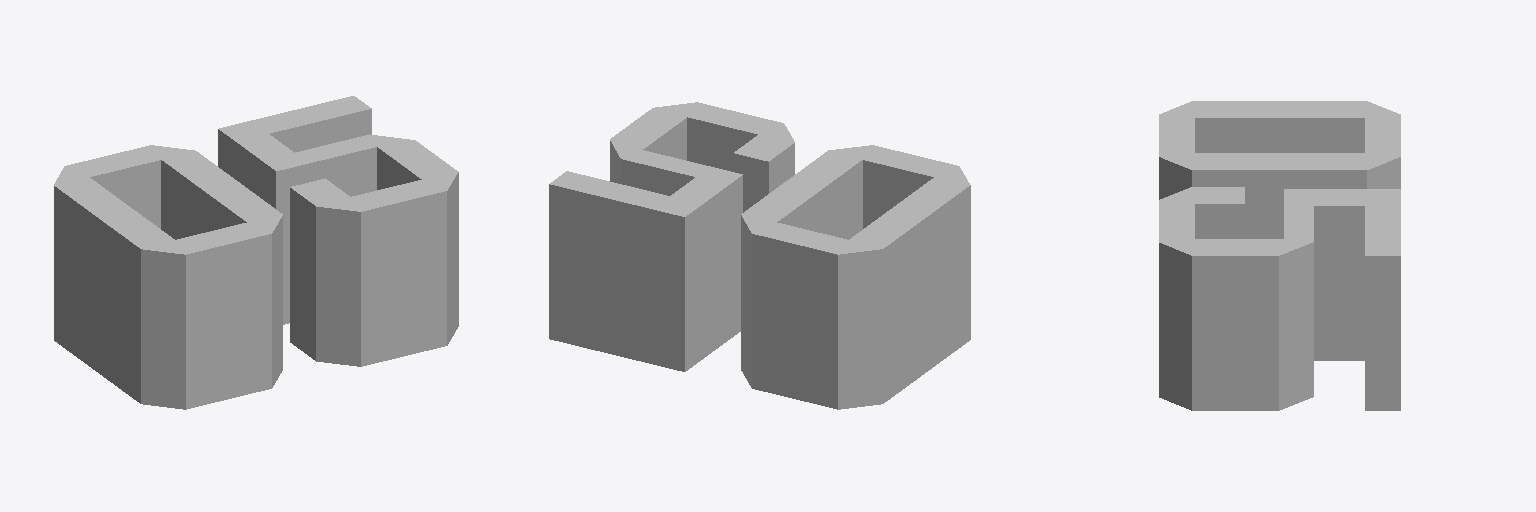
Rendered from date_05.obj.
3 views of the same model, side by side, from view 1: azimuth 30°, elevation 25°; view 2: azimuth 150°, elevation 25°; view 3: azimuth 270°, elevation 25° (orthographic).
Parts seen in each view (by area): view 1: Text; view 2: Text; view 3: Text.
Boxes of the visible parts, x1,y1,x2,y2 form: Text: [54, 96, 458, 409]; Text: [549, 102, 970, 409]; Text: [1159, 101, 1400, 410].
Size of the model in its own units: 0.8576 by 0.4 by 0.5663.